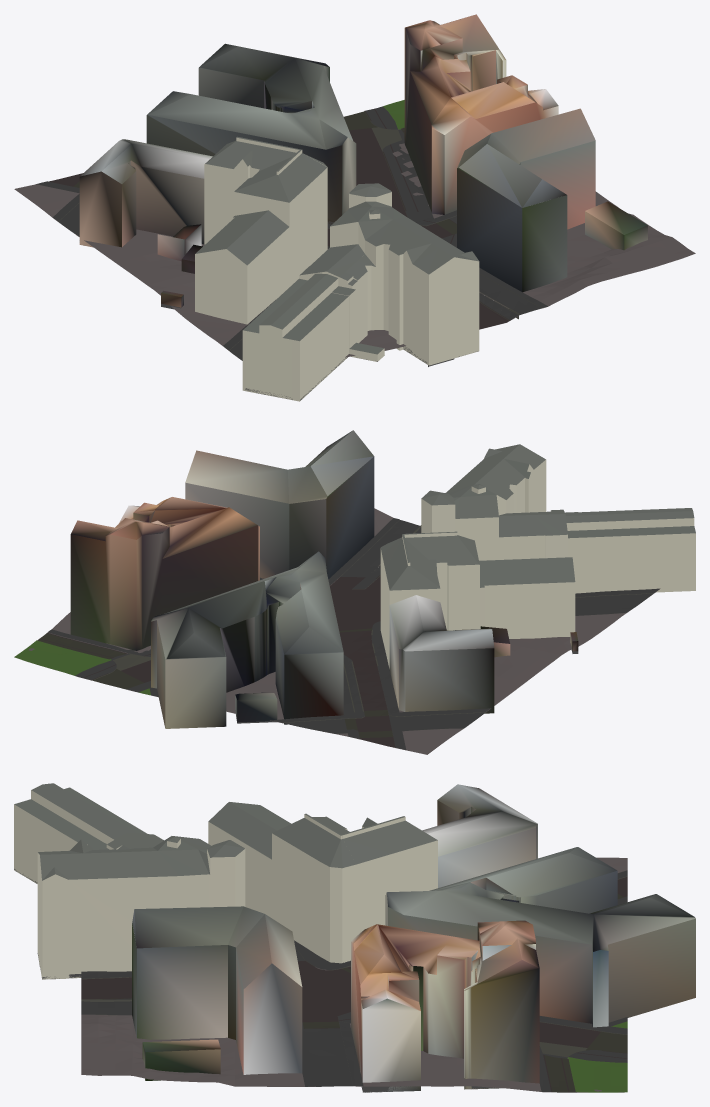
3 renders of one model, top to bottom at view 1: azimuth 30°, elevation 25°; view 2: azimuth 150°, elevation 25°; view 3: azimuth 270°, elevation 25°, orthographic. The views are drawn at different scales.
Visible parts, largest first — view 1: c_m05_p07; view 2: c_m05_p07; view 3: c_m05_p07.
Part boxes in pixels (bbox=[...]): c_m05_p07: bbox=[14, 14, 695, 401]; c_m05_p07: bbox=[14, 430, 695, 754]; c_m05_p07: bbox=[14, 783, 695, 1092].
Size of the model in its own units: 136 by 37.77 by 160.
